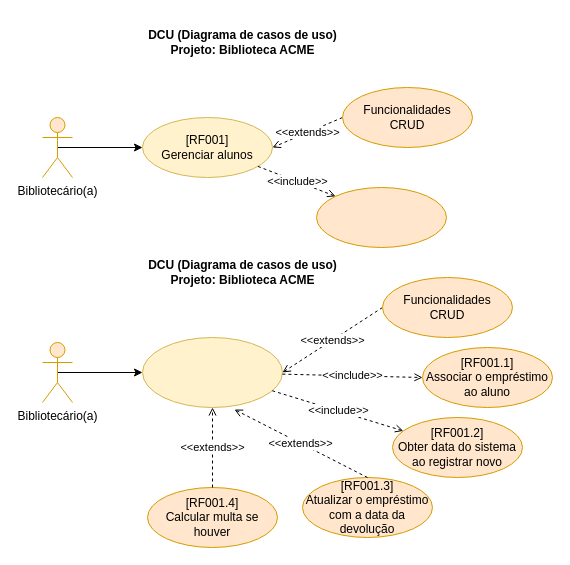
Image size: 570x565. Some labels were removed from this diagram. The shapes that lost their labels are listed below. From the top down, each one's centre as x and y in pixels, then its label:
At (381,217): "[RF001.1] Listar livros emprestados".
At (212,372): "[RF002] Gerenciar Empréstimos".
